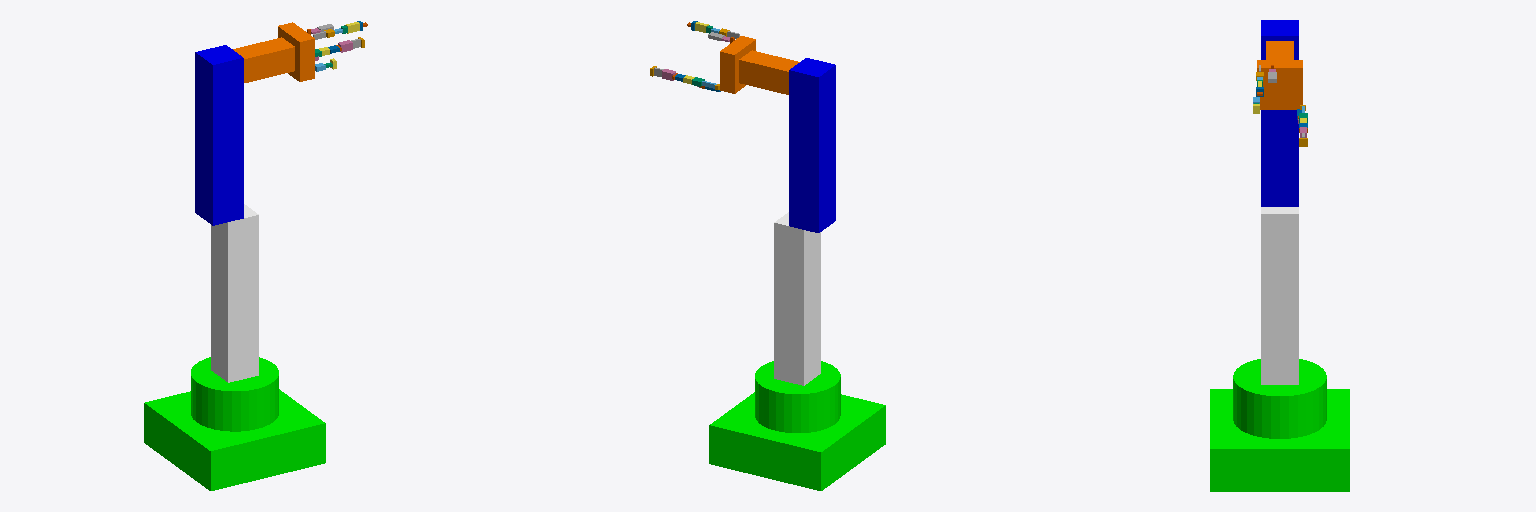
The robot description file, URDF, robot "robot":
<?xml version='1.0' encoding='utf-8'?>
<robot name="robot">
  <link name="base_link">
    <visual>
      <origin xyz="0 0 0.125" rpy="0 0 0" />
      <geometry>
        <box size="0.75 0.75 0.25" />
      </geometry>
      <material name="green" />
    </visual>
    <visual>
      <origin xyz="0 0 0.375" rpy="0 0 0" />
      <geometry>
        <cylinder length="0.25" radius="0.25" />
      </geometry>
      <material name="green">
        <color rgba="0 1 0 1" />
      </material>
    </visual>
    <collision>
      <geometry>
        <box size="0.75 0.75 0.5" />
      </geometry>
    </collision>
    <inertial>
      <mass value="0.5" />
      <inertia ixx="0.034" ixy="0.0" ixz="0.0" iyy="0.034" iyz="0.0" izz="0.034" />
    </inertial>
  </link>
  <link name="support_link">
    <visual>
      <origin xyz="0 0 0.5" rpy="0 0 0" />
      <geometry>
        <box size="0.2 0.2 1" />
      </geometry>
      <material name="white">
        <color rgba="1 1 1 1" />
      </material>
    </visual>
    <collision>
      <geometry>
        <box size="0.2 0.2 1" />
      </geometry>
    </collision>
    <inertial>
      <mass value="0.1" />
      <inertia ixx="0.01" ixy="0.0" ixz="0.0" iyy="0.01" iyz="0.0" izz="0.01" />
    </inertial>
  </link>
  <joint name="support_joint" type="continuous">
    <origin xyz="0 0 0.5" rpy="0 0 0" />
    <parent link="base_link" />
    <child link="support_link" />
    <axis xyz="0 0 1" />
  </joint>
  <link name="arm_link">
    <visual>
      <origin xyz="0 0 0.5" rpy="0 0 0" />
      <geometry>
        <box size="0.2 0.2 1" />
      </geometry>
      <material name="blue">
        <color rgba="0 0 1 1" />
      </material>
    </visual>
    <collision>
      <geometry>
        <box size="0.2 0.2 1" />
      </geometry>
    </collision>
    <inertial>
      <mass value="0.1" />
      <inertia ixx="0.01" ixy="0.0" ixz="0.0" iyy="0.01" iyz="0.0" izz="0.01" />
    </inertial>
  </link>
  <joint name="arm_joint" type="revolute">
    <origin xyz="-0.1 0 1" rpy="0 0 0" />
    <parent link="support_link" />
    <child link="arm_link" />
    <axis xyz="0 1 0" />
    <limit lower="-3.14" upper="3.14" effort="1.0" velocity="1.0" />
  </joint>
  <link name="wrist_link">
    <visual>
      <origin xyz="0 0 0.25" rpy="0 0 0" />
      <geometry>
        <box size="0.15 0.15 0.5" />
      </geometry>
      <material name="orange">
        <color rgba="1 0.5 0 1" />
      </material>
    </visual>
    <collision>
      <geometry>
        <box size="0.15 0.15 0.5" />
      </geometry>
    </collision>
    <inertial>
      <mass value="0.1" />
      <inertia ixx="0.01" ixy="0.0" ixz="0.0" iyy="0.01" iyz="0.0" izz="0.01" />
    </inertial>
  </link>
  <joint name="wrist_joint" type="fixed">
    <origin xyz="0 0 0.9" rpy="0 1.571 0" />
    <parent link="arm_link" />
    <child link="wrist_link" />
  </joint>
  <link name="palm_link">
    <visual>
      <origin xyz="0 0 0.05" rpy="0 0 0" />
      <geometry>
        <box size="0.25 0.25 0.1" />
      </geometry>
      <material name="orange" />
    </visual>
    <collision>
      <geometry>
        <box size="0.25 0.25 0.1" />
      </geometry>
    </collision>
    <inertial>
      <mass value="0.1" />
      <inertia ixx="0.01" ixy="0.0" ixz="0.0" iyy="0.01" iyz="0.0" izz="0.01" />
    </inertial>
  </link>
  <joint name="palm_joint" type="fixed">
    <origin xyz="0 0 0.45" rpy="0 0 0" />
    <parent link="wrist_link" />
    <child link="palm_link" />
  </joint>
  <link name="finger_link_0_0">
    <visual>
      <origin xyz="0 0 0.0105" rpy="0 0 0" />
      <geometry>
        <box size="0.037 0.014 0.021" />
      </geometry>
    </visual>
    <collision>
      <geometry>
        <box size="0.037 0.014 0.021" />
      </geometry>
    </collision>
    <inertial>
      <mass value="0.003" />
      <inertia ixx="0.0" iyy="0.0" izz="0.0" ixy="0" ixz="0" iyz="0" />
    </inertial>
  </link>
  <joint name="finger_joint_palm_link_to_finger_link_0_0" type="revolute">
    <origin xyz="-0.125 -0.04 0.1" rpy="0 0 0" />
    <parent link="palm_link" />
    <child link="finger_link_0_0" />
    <axis xyz="0.0 -1.0 0.0" />
    <limit lower="-3.142" upper="3.142" effort="10" velocity="10" />
  </joint>
  <link name="finger_link_0_1">
    <visual>
      <origin xyz="0 0 0.0265" rpy="0 0 0" />
      <geometry>
        <box size="0.011 0.041 0.053" />
      </geometry>
    </visual>
    <collision>
      <geometry>
        <box size="0.011 0.041 0.053" />
      </geometry>
    </collision>
    <inertial>
      <mass value="0.007" />
      <inertia ixx="0.0" iyy="0.0" izz="0.0" ixy="0" ixz="0" iyz="0" />
    </inertial>
  </link>
  <joint name="finger_joint_finger_link_0_0_to_finger_link_0_1" type="revolute">
    <origin xyz="0.0 0.0 0.021" rpy="0 0 0" />
    <parent link="finger_link_0_0" />
    <child link="finger_link_0_1" />
    <axis xyz="0.0 1.0 0.0" />
    <limit lower="-3.142" upper="3.142" effort="10" velocity="10" />
  </joint>
  <link name="finger_link_0_2">
    <visual>
      <origin xyz="0 0 0.044" rpy="0 0 0" />
      <geometry>
        <box size="0.023 0.043 0.088" />
      </geometry>
    </visual>
    <collision>
      <geometry>
        <box size="0.023 0.043 0.088" />
      </geometry>
    </collision>
    <inertial>
      <mass value="0.026" />
      <inertia ixx="0.0" iyy="0.0" izz="0.0" ixy="0" ixz="0" iyz="0" />
    </inertial>
  </link>
  <joint name="finger_joint_finger_link_0_1_to_finger_link_0_2" type="revolute">
    <origin xyz="0.0 0.0 0.053" rpy="0 0 0" />
    <parent link="finger_link_0_1" />
    <child link="finger_link_0_2" />
    <axis xyz="0.0 1.0 0.0" />
    <limit lower="-3.142" upper="3.142" effort="10" velocity="10" />
  </joint>
  <link name="finger_link_1_0">
    <visual>
      <origin xyz="0 0 0.0105" rpy="0 0 0" />
      <geometry>
        <box size="0.026 0.032 0.021" />
      </geometry>
    </visual>
    <collision>
      <geometry>
        <box size="0.026 0.032 0.021" />
      </geometry>
    </collision>
    <inertial>
      <mass value="0.005" />
      <inertia ixx="0.0" iyy="0.0" izz="0.0" ixy="0" ixz="0" iyz="0" />
    </inertial>
  </link>
  <joint name="finger_joint_palm_link_to_finger_link_1_0" type="revolute">
    <origin xyz="0.105 0.125 0.1" rpy="0 0 0" />
    <parent link="palm_link" />
    <child link="finger_link_1_0" />
    <axis xyz="-1.0 0.0 0.0" />
    <limit lower="-3.142" upper="3.142" effort="10" velocity="10" />
  </joint>
  <link name="finger_link_1_1">
    <visual>
      <origin xyz="0 0 0.047" rpy="0 0 0" />
      <geometry>
        <box size="0.027 0.017 0.094" />
      </geometry>
    </visual>
    <collision>
      <geometry>
        <box size="0.027 0.017 0.094" />
      </geometry>
    </collision>
    <inertial>
      <mass value="0.013" />
      <inertia ixx="0.0" iyy="0.0" izz="0.0" ixy="0" ixz="0" iyz="0" />
    </inertial>
  </link>
  <joint name="finger_joint_finger_link_1_0_to_finger_link_1_1" type="revolute">
    <origin xyz="0.0 0.0 0.021" rpy="0 0 0" />
    <parent link="finger_link_1_0" />
    <child link="finger_link_1_1" />
    <axis xyz="0.0 1.0 0.0" />
    <limit lower="-3.142" upper="3.142" effort="10" velocity="10" />
  </joint>
  <link name="finger_link_1_2">
    <visual>
      <origin xyz="0 0 0.03" rpy="0 0 0" />
      <geometry>
        <box size="0.032 0.049 0.06" />
      </geometry>
    </visual>
    <collision>
      <geometry>
        <box size="0.032 0.049 0.06" />
      </geometry>
    </collision>
    <inertial>
      <mass value="0.028" />
      <inertia ixx="0.0" iyy="0.0" izz="0.0" ixy="0" ixz="0" iyz="0" />
    </inertial>
  </link>
  <joint name="finger_joint_finger_link_1_1_to_finger_link_1_2" type="revolute">
    <origin xyz="0.0 0.0 0.094" rpy="0 0 0" />
    <parent link="finger_link_1_1" />
    <child link="finger_link_1_2" />
    <axis xyz="1.0 0.0 0.0" />
    <limit lower="-3.142" upper="3.142" effort="10" velocity="10" />
  </joint>
  <link name="finger_link_1_3">
    <visual>
      <origin xyz="0 0 0.029" rpy="0 0 0" />
      <geometry>
        <box size="0.031 0.04 0.058" />
      </geometry>
    </visual>
    <collision>
      <geometry>
        <box size="0.031 0.04 0.058" />
      </geometry>
    </collision>
    <inertial>
      <mass value="0.022" />
      <inertia ixx="0.0" iyy="0.0" izz="0.0" ixy="0" ixz="0" iyz="0" />
    </inertial>
  </link>
  <joint name="finger_joint_finger_link_1_2_to_finger_link_1_3" type="revolute">
    <origin xyz="0.0 0.0 0.06" rpy="0 0 0" />
    <parent link="finger_link_1_2" />
    <child link="finger_link_1_3" />
    <axis xyz="1.0 0.0 0.0" />
    <limit lower="-3.142" upper="3.142" effort="10" velocity="10" />
  </joint>
  <link name="finger_link_1_4">
    <visual>
      <origin xyz="0 0 0.029" rpy="0 0 0" />
      <geometry>
        <box size="0.023 0.043 0.058" />
      </geometry>
    </visual>
    <collision>
      <geometry>
        <box size="0.023 0.043 0.058" />
      </geometry>
    </collision>
    <inertial>
      <mass value="0.017" />
      <inertia ixx="0.0" iyy="0.0" izz="0.0" ixy="0" ixz="0" iyz="0" />
    </inertial>
  </link>
  <joint name="finger_joint_finger_link_1_3_to_finger_link_1_4" type="revolute">
    <origin xyz="0.0 0.0 0.058" rpy="0 0 0" />
    <parent link="finger_link_1_3" />
    <child link="finger_link_1_4" />
    <axis xyz="1.0 0.0 0.0" />
    <limit lower="-3.142" upper="3.142" effort="10" velocity="10" />
  </joint>
  <link name="finger_link_1_5">
    <visual>
      <origin xyz="0 0 0.0065" rpy="0 0 0" />
      <geometry>
        <box size="0.02 0.048 0.013" />
      </geometry>
    </visual>
    <collision>
      <geometry>
        <box size="0.02 0.048 0.013" />
      </geometry>
    </collision>
    <inertial>
      <mass value="0.004" />
      <inertia ixx="0.0" iyy="0.0" izz="0.0" ixy="0" ixz="0" iyz="0" />
    </inertial>
  </link>
  <joint name="finger_joint_finger_link_1_4_to_finger_link_1_5" type="revolute">
    <origin xyz="0.0 0.0 0.058" rpy="0 0 0" />
    <parent link="finger_link_1_4" />
    <child link="finger_link_1_5" />
    <axis xyz="0.0 1.0 0.0" />
    <limit lower="-3.142" upper="3.142" effort="10" velocity="10" />
  </joint>
  <link name="finger_link_1_6">
    <visual>
      <origin xyz="0 0 0.0375" rpy="0 0 0" />
      <geometry>
        <box size="0.047 0.04 0.075" />
      </geometry>
    </visual>
    <collision>
      <geometry>
        <box size="0.047 0.04 0.075" />
      </geometry>
    </collision>
    <inertial>
      <mass value="0.042" />
      <inertia ixx="0.0" iyy="0.0" izz="0.0" ixy="0" ixz="0" iyz="0" />
    </inertial>
  </link>
  <joint name="finger_joint_finger_link_1_5_to_finger_link_1_6" type="revolute">
    <origin xyz="0.0 0.0 0.013" rpy="0 0 0" />
    <parent link="finger_link_1_5" />
    <child link="finger_link_1_6" />
    <axis xyz="1.0 1.0 0.0" />
    <limit lower="-3.142" upper="3.142" effort="10" velocity="10" />
  </joint>
  <link name="finger_link_1_7">
    <visual>
      <origin xyz="0 0 0.0285" rpy="0 0 0" />
      <geometry>
        <box size="0.048 0.014 0.057" />
      </geometry>
    </visual>
    <collision>
      <geometry>
        <box size="0.048 0.014 0.057" />
      </geometry>
    </collision>
    <inertial>
      <mass value="0.011" />
      <inertia ixx="0.0" iyy="0.0" izz="0.0" ixy="0" ixz="0" iyz="0" />
    </inertial>
  </link>
  <joint name="finger_joint_finger_link_1_6_to_finger_link_1_7" type="revolute">
    <origin xyz="0.0 0.0 0.075" rpy="0 0 0" />
    <parent link="finger_link_1_6" />
    <child link="finger_link_1_7" />
    <axis xyz="1.0 0.0 0.0" />
    <limit lower="-3.142" upper="3.142" effort="10" velocity="10" />
  </joint>
  <link name="finger_link_1_8">
    <visual>
      <origin xyz="0 0 0.009" rpy="0 0 0" />
      <geometry>
        <box size="0.047 0.047 0.018" />
      </geometry>
    </visual>
    <collision>
      <geometry>
        <box size="0.047 0.047 0.018" />
      </geometry>
    </collision>
    <inertial>
      <mass value="0.012" />
      <inertia ixx="0.0" iyy="0.0" izz="0.0" ixy="0" ixz="0" iyz="0" />
    </inertial>
  </link>
  <joint name="finger_joint_finger_link_1_7_to_finger_link_1_8" type="revolute">
    <origin xyz="0.0 0.0 0.057" rpy="0 0 0" />
    <parent link="finger_link_1_7" />
    <child link="finger_link_1_8" />
    <axis xyz="0.0 1.0 0.0" />
    <limit lower="-3.142" upper="3.142" effort="10" velocity="10" />
  </joint>
  <link name="finger_link_2_0">
    <visual>
      <origin xyz="0 0 0.0285" rpy="0 0 0" />
      <geometry>
        <box size="0.029 0.039 0.057" />
      </geometry>
    </visual>
    <collision>
      <geometry>
        <box size="0.029 0.039 0.057" />
      </geometry>
    </collision>
    <inertial>
      <mass value="0.019" />
      <inertia ixx="0.0" iyy="0.0" izz="0.0" ixy="0" ixz="0" iyz="0" />
    </inertial>
  </link>
  <joint name="finger_joint_palm_link_to_finger_link_2_0" type="revolute">
    <origin xyz="0.062 -0.125 0.1" rpy="0 0 0" />
    <parent link="palm_link" />
    <child link="finger_link_2_0" />
    <axis xyz="1.0 0.0 0.0" />
    <limit lower="-3.142" upper="3.142" effort="10" velocity="10" />
  </joint>
  <link name="finger_link_2_1">
    <visual>
      <origin xyz="0 0 0.0255" rpy="0 0 0" />
      <geometry>
        <box size="0.018 0.022 0.051" />
      </geometry>
    </visual>
    <collision>
      <geometry>
        <box size="0.018 0.022 0.051" />
      </geometry>
    </collision>
    <inertial>
      <mass value="0.006" />
      <inertia ixx="0.0" iyy="0.0" izz="0.0" ixy="0" ixz="0" iyz="0" />
    </inertial>
  </link>
  <joint name="finger_joint_finger_link_2_0_to_finger_link_2_1" type="revolute">
    <origin xyz="0.0 0.0 0.057" rpy="0 0 0" />
    <parent link="finger_link_2_0" />
    <child link="finger_link_2_1" />
    <axis xyz="1.0 0.0 0.0" />
    <limit lower="-3.142" upper="3.142" effort="10" velocity="10" />
  </joint>
  <link name="finger_link_2_2">
    <visual>
      <origin xyz="0 0 0.0115" rpy="0 0 0" />
      <geometry>
        <box size="0.05 0.035 0.023" />
      </geometry>
    </visual>
    <collision>
      <geometry>
        <box size="0.05 0.035 0.023" />
      </geometry>
    </collision>
    <inertial>
      <mass value="0.012" />
      <inertia ixx="0.0" iyy="0.0" izz="0.0" ixy="0" ixz="0" iyz="0" />
    </inertial>
  </link>
  <joint name="finger_joint_finger_link_2_1_to_finger_link_2_2" type="revolute">
    <origin xyz="0.0 0.0 0.051" rpy="0 0 0" />
    <parent link="finger_link_2_1" />
    <child link="finger_link_2_2" />
    <axis xyz="1.0 1.0 0.0" />
    <limit lower="-3.142" upper="3.142" effort="10" velocity="10" />
  </joint>
  <link name="finger_link_3_0">
    <visual>
      <origin xyz="0 0 0.0485" rpy="0 0 0" />
      <geometry>
        <box size="0.02 0.038 0.097" />
      </geometry>
    </visual>
    <collision>
      <geometry>
        <box size="0.02 0.038 0.097" />
      </geometry>
    </collision>
    <inertial>
      <mass value="0.022" />
      <inertia ixx="0.0" iyy="0.0" izz="0.0" ixy="0" ixz="0" iyz="0" />
    </inertial>
  </link>
  <joint name="finger_joint_palm_link_to_finger_link_3_0" type="revolute">
    <origin xyz="0.125 0.112 0.1" rpy="0 0 0" />
    <parent link="palm_link" />
    <child link="finger_link_3_0" />
    <axis xyz="0.0 1.0 0.0" />
    <limit lower="-3.142" upper="3.142" effort="10" velocity="10" />
  </joint>
  <link name="finger_link_3_1">
    <visual>
      <origin xyz="0 0 0.016" rpy="0 0 0" />
      <geometry>
        <box size="0.028 0.029 0.032" />
      </geometry>
    </visual>
    <collision>
      <geometry>
        <box size="0.028 0.029 0.032" />
      </geometry>
    </collision>
    <inertial>
      <mass value="0.008" />
      <inertia ixx="0.0" iyy="0.0" izz="0.0" ixy="0" ixz="0" iyz="0" />
    </inertial>
  </link>
  <joint name="finger_joint_finger_link_3_0_to_finger_link_3_1" type="revolute">
    <origin xyz="0.0 0.0 0.097" rpy="0 0 0" />
    <parent link="finger_link_3_0" />
    <child link="finger_link_3_1" />
    <axis xyz="0.0 1.0 0.0" />
    <limit lower="-3.142" upper="3.142" effort="10" velocity="10" />
  </joint>
  <link name="finger_link_3_2">
    <visual>
      <origin xyz="0 0 0.0115" rpy="0 0 0" />
      <geometry>
        <box size="0.024 0.029 0.023" />
      </geometry>
    </visual>
    <collision>
      <geometry>
        <box size="0.024 0.029 0.023" />
      </geometry>
    </collision>
    <inertial>
      <mass value="0.005" />
      <inertia ixx="0.0" iyy="0.0" izz="0.0" ixy="0" ixz="0" iyz="0" />
    </inertial>
  </link>
  <joint name="finger_joint_finger_link_3_1_to_finger_link_3_2" type="revolute">
    <origin xyz="0.0 0.0 0.032" rpy="0 0 0" />
    <parent link="finger_link_3_1" />
    <child link="finger_link_3_2" />
    <axis xyz="0.0 1.0 0.0" />
    <limit lower="-3.142" upper="3.142" effort="10" velocity="10" />
  </joint>
  <link name="finger_link_4_0">
    <visual>
      <origin xyz="0 0 0.0395" rpy="0 0 0" />
      <geometry>
        <box size="0.034 0.013 0.079" />
      </geometry>
    </visual>
    <collision>
      <geometry>
        <box size="0.034 0.013 0.079" />
      </geometry>
    </collision>
    <inertial>
      <mass value="0.01" />
      <inertia ixx="0.0" iyy="0.0" izz="0.0" ixy="0" ixz="0" iyz="0" />
    </inertial>
  </link>
  <joint name="finger_joint_palm_link_to_finger_link_4_0" type="revolute">
    <origin xyz="-0.125 -0.107 0.1" rpy="0 0 0" />
    <parent link="palm_link" />
    <child link="finger_link_4_0" />
    <axis xyz="0.0 -1.0 0.0" />
    <limit lower="-3.142" upper="3.142" effort="10" velocity="10" />
  </joint>
  <link name="finger_link_4_1">
    <visual>
      <origin xyz="0 0 0.025" rpy="0 0 0" />
      <geometry>
        <box size="0.029 0.044 0.05" />
      </geometry>
    </visual>
    <collision>
      <geometry>
        <box size="0.029 0.044 0.05" />
      </geometry>
    </collision>
    <inertial>
      <mass value="0.019" />
      <inertia ixx="0.0" iyy="0.0" izz="0.0" ixy="0" ixz="0" iyz="0" />
    </inertial>
  </link>
  <joint name="finger_joint_finger_link_4_0_to_finger_link_4_1" type="revolute">
    <origin xyz="0.0 0.0 0.079" rpy="0 0 0" />
    <parent link="finger_link_4_0" />
    <child link="finger_link_4_1" />
    <axis xyz="1.0 0.0 0.0" />
    <limit lower="-3.142" upper="3.142" effort="10" velocity="10" />
  </joint>
  <link name="finger_link_4_2">
    <visual>
      <origin xyz="0 0 0.0285" rpy="0 0 0" />
      <geometry>
        <box size="0.015 0.029 0.057" />
      </geometry>
    </visual>
    <collision>
      <geometry>
        <box size="0.015 0.029 0.057" />
      </geometry>
    </collision>
    <inertial>
      <mass value="0.007" />
      <inertia ixx="0.0" iyy="0.0" izz="0.0" ixy="0" ixz="0" iyz="0" />
    </inertial>
  </link>
  <joint name="finger_joint_finger_link_4_1_to_finger_link_4_2" type="revolute">
    <origin xyz="0.0 0.0 0.05" rpy="0 0 0" />
    <parent link="finger_link_4_1" />
    <child link="finger_link_4_2" />
    <axis xyz="1.0 1.0 0.0" />
    <limit lower="-3.142" upper="3.142" effort="10" velocity="10" />
  </joint>
  <link name="finger_link_4_3">
    <visual>
      <origin xyz="0 0 0.0145" rpy="0 0 0" />
      <geometry>
        <box size="0.036 0.031 0.029" />
      </geometry>
    </visual>
    <collision>
      <geometry>
        <box size="0.036 0.031 0.029" />
      </geometry>
    </collision>
    <inertial>
      <mass value="0.01" />
      <inertia ixx="0.0" iyy="0.0" izz="0.0" ixy="0" ixz="0" iyz="0" />
    </inertial>
  </link>
  <joint name="finger_joint_finger_link_4_2_to_finger_link_4_3" type="revolute">
    <origin xyz="0.0 0.0 0.057" rpy="0 0 0" />
    <parent link="finger_link_4_2" />
    <child link="finger_link_4_3" />
    <axis xyz="1.0 0.0 0.0" />
    <limit lower="-3.142" upper="3.142" effort="10" velocity="10" />
  </joint>
  <link name="finger_link_4_4">
    <visual>
      <origin xyz="0 0 0.0395" rpy="0 0 0" />
      <geometry>
        <box size="0.047 0.024 0.079" />
      </geometry>
    </visual>
    <collision>
      <geometry>
        <box size="0.047 0.024 0.079" />
      </geometry>
    </collision>
    <inertial>
      <mass value="0.027" />
      <inertia ixx="0.0" iyy="0.0" izz="0.0" ixy="0" ixz="0" iyz="0" />
    </inertial>
  </link>
  <joint name="finger_joint_finger_link_4_3_to_finger_link_4_4" type="revolute">
    <origin xyz="0.0 0.0 0.029" rpy="0 0 0" />
    <parent link="finger_link_4_3" />
    <child link="finger_link_4_4" />
    <axis xyz="0.0 1.0 0.0" />
    <limit lower="-3.142" upper="3.142" effort="10" velocity="10" />
  </joint>
  <link name="finger_link_4_5">
    <visual>
      <origin xyz="0 0 0.01" rpy="0 0 0" />
      <geometry>
        <box size="0.047 0.039 0.02" />
      </geometry>
    </visual>
    <collision>
      <geometry>
        <box size="0.047 0.039 0.02" />
      </geometry>
    </collision>
    <inertial>
      <mass value="0.011" />
      <inertia ixx="0.0" iyy="0.0" izz="0.0" ixy="0" ixz="0" iyz="0" />
    </inertial>
  </link>
  <joint name="finger_joint_finger_link_4_4_to_finger_link_4_5" type="revolute">
    <origin xyz="0.0 0.0 0.079" rpy="0 0 0" />
    <parent link="finger_link_4_4" />
    <child link="finger_link_4_5" />
    <axis xyz="0.0 1.0 0.0" />
    <limit lower="-3.142" upper="3.142" effort="10" velocity="10" />
  </joint>
  <link name="finger_link_4_6">
    <visual>
      <origin xyz="0 0 0.016" rpy="0 0 0" />
      <geometry>
        <box size="0.013 0.03 0.032" />
      </geometry>
    </visual>
    <collision>
      <geometry>
        <box size="0.013 0.03 0.032" />
      </geometry>
    </collision>
    <inertial>
      <mass value="0.004" />
      <inertia ixx="0.0" iyy="0.0" izz="0.0" ixy="0" ixz="0" iyz="0" />
    </inertial>
  </link>
  <joint name="finger_joint_finger_link_4_5_to_finger_link_4_6" type="revolute">
    <origin xyz="0.0 0.0 0.02" rpy="0 0 0" />
    <parent link="finger_link_4_5" />
    <child link="finger_link_4_6" />
    <axis xyz="0.0 1.0 0.0" />
    <limit lower="-3.142" upper="3.142" effort="10" velocity="10" />
  </joint>
</robot>

--- Facts derived from the render (not from the file) ---
Views: 3 orthographic renders of the robot side by side, from view 1: azimuth 30°, elevation 25°; view 2: azimuth 150°, elevation 25°; view 3: azimuth 270°, elevation 25°.
Robot: robot — 30 links, 29 joints (26 revolute, 1 continuous, 2 fixed); root link base_link; default pose: all joints at 0.
Links seen in each view (by area): view 1: base_link, arm_link, support_link, wrist_link, palm_link; view 2: base_link, arm_link, support_link, wrist_link, palm_link; view 3: base_link, support_link, arm_link, palm_link, wrist_link.
Boxes of the visible links, x1,y1,x2,y2 form: base_link: (144,357,325,490); arm_link: (195,45,243,225); support_link: (211,204,258,382); wrist_link: (233,37,294,82); palm_link: (278,22,314,81); base_link: (709,361,885,490); arm_link: (789,58,835,232); support_link: (774,212,820,385); wrist_link: (739,50,799,94); palm_link: (720,36,755,93); base_link: (1210,359,1349,491); support_link: (1261,207,1298,384); arm_link: (1261,20,1298,206); palm_link: (1257,60,1302,109); wrist_link: (1266,41,1293,59).
Size in the robot's own frame: 1.28 by 0.75 by 2.55 metres.
Geometry: primitives only (box / cylinder / sphere), no mesh files.